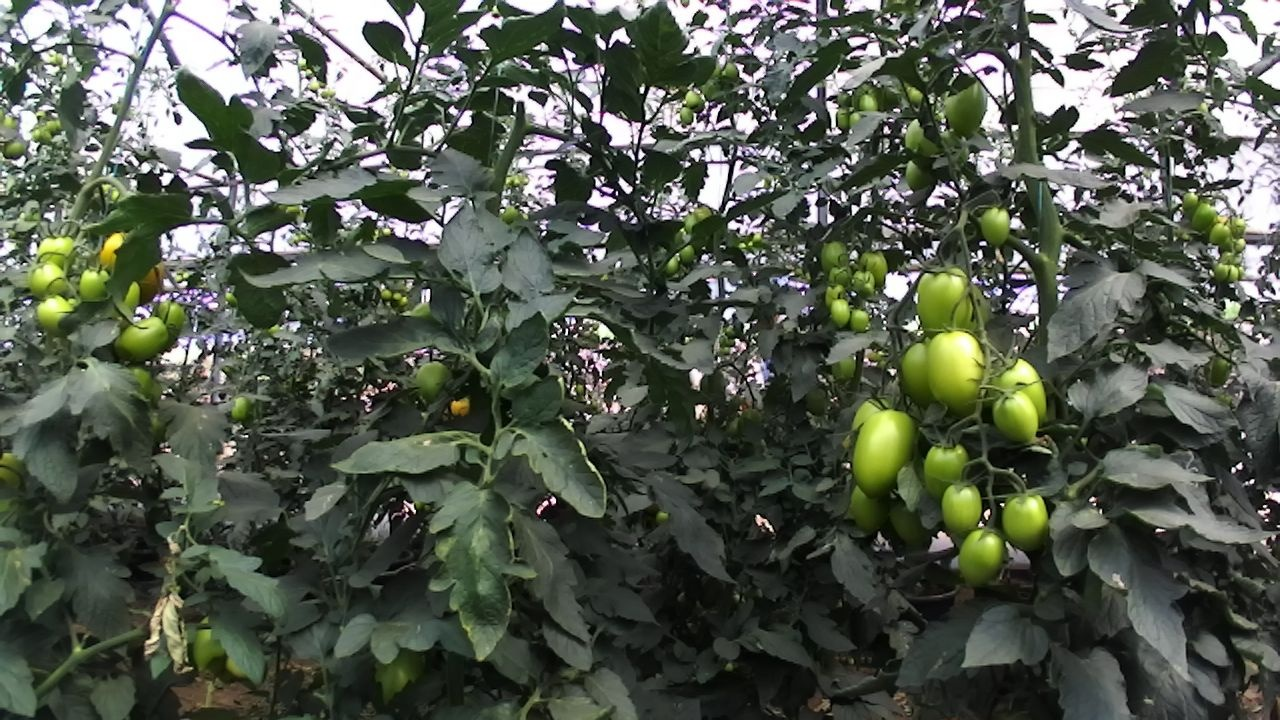tomato: (842, 392, 933, 505), (899, 252, 1001, 352), (917, 317, 998, 423), (360, 619, 441, 718), (983, 343, 1063, 431), (991, 474, 1061, 566), (886, 331, 960, 416), (915, 429, 982, 512), (950, 512, 1012, 599), (985, 378, 1054, 456), (876, 486, 943, 559), (107, 309, 179, 374), (182, 602, 242, 680), (939, 67, 998, 144), (934, 469, 991, 547), (844, 475, 899, 543), (26, 287, 88, 346), (27, 225, 83, 280), (973, 195, 1022, 257), (410, 350, 458, 410), (23, 254, 77, 307), (145, 293, 192, 353), (900, 106, 948, 161), (72, 259, 118, 313), (217, 384, 263, 433), (814, 232, 854, 285), (1200, 345, 1239, 399), (900, 149, 944, 196), (856, 244, 897, 294), (799, 379, 839, 426), (841, 300, 876, 340), (823, 257, 858, 296), (827, 293, 855, 332), (1188, 199, 1219, 234), (848, 264, 878, 300), (821, 276, 850, 313), (0, 132, 32, 163), (1205, 217, 1233, 250), (446, 391, 476, 421), (675, 240, 702, 271), (496, 200, 525, 228), (678, 208, 705, 238), (659, 249, 684, 281), (856, 89, 883, 116), (1177, 186, 1204, 213), (31, 120, 56, 147), (832, 104, 856, 132), (1229, 211, 1250, 242), (690, 202, 716, 226), (680, 86, 703, 112), (1222, 259, 1244, 286), (721, 59, 744, 83), (1211, 256, 1231, 283), (677, 102, 697, 127), (834, 87, 855, 110), (377, 283, 395, 306), (26, 126, 44, 145), (1232, 235, 1250, 254), (395, 291, 412, 310), (390, 287, 405, 306)
